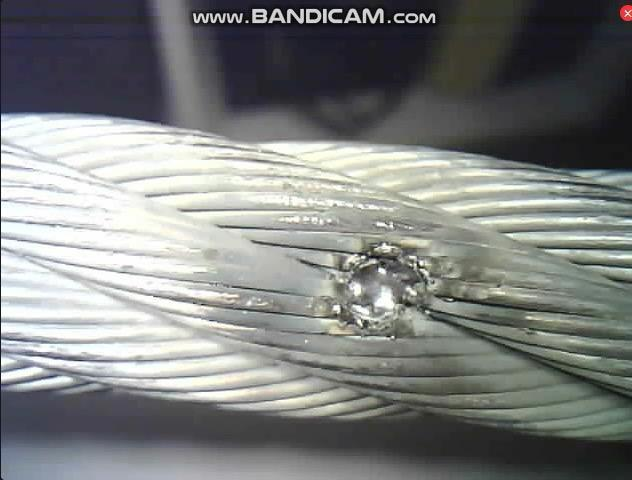thunderbolt: (297, 224, 460, 350)
